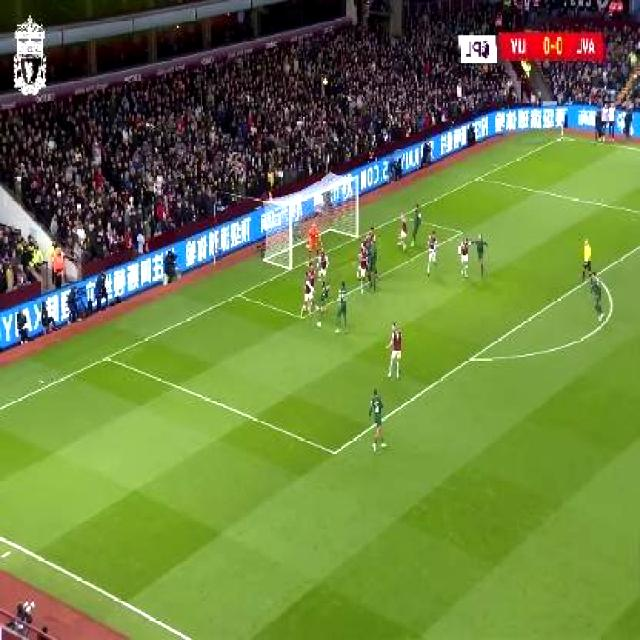bigarea_bottom_inner: (328, 442, 343, 464)
bigarea_bottom_outter: (103, 349, 114, 365)
bigarea_top_outter: (475, 172, 483, 183)
bottom_arc_area_intersection: (466, 349, 479, 368)
corner: (558, 134, 570, 141)
smallarea_bottom_inner: (296, 309, 306, 325)
smallarea_bottom_outter: (234, 286, 246, 302)
smallarea_top_inner: (458, 226, 468, 239)
smallarea_top_outter: (397, 209, 406, 220)
top_arc_area_intersection: (592, 269, 600, 282)
